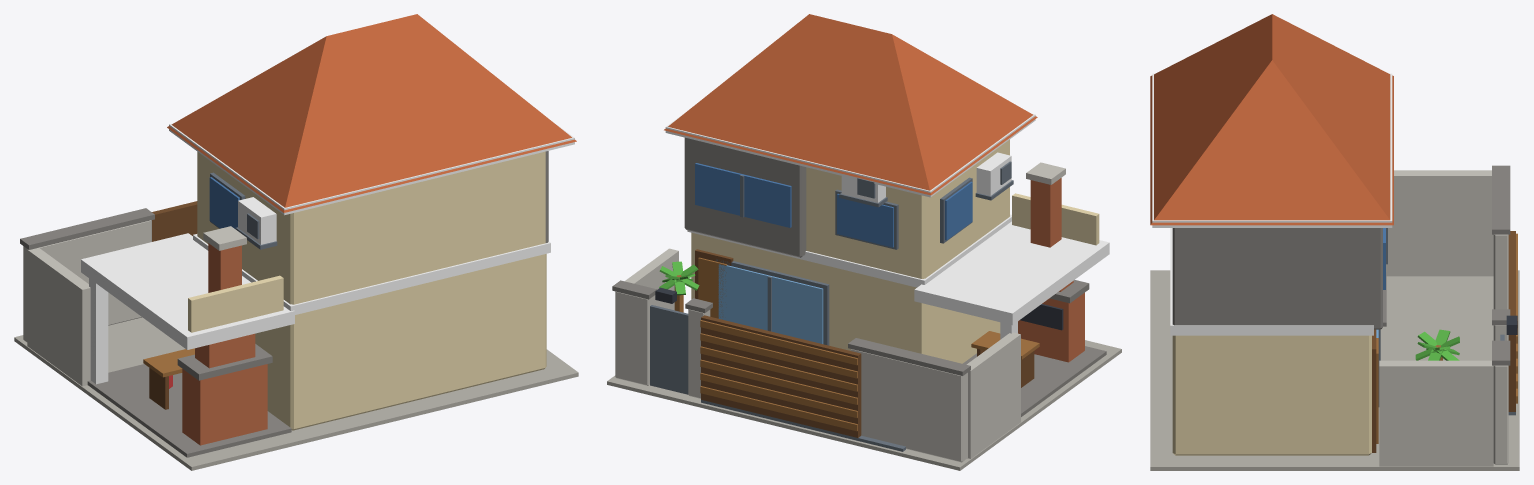
File: casa_dois_andares.glb
The picture shows the model from 3 angles, left to right: view 1: azimuth 30°, elevation 25°; view 2: azimuth 150°, elevation 25°; view 3: azimuth 270°, elevation 25°; orthographic projection. The views are drawn at different scales.
Visible parts, largest first — view 1: corpo; view 2: corpo; view 3: corpo.
Boxes of the visible parts, <box> form: corpo: <box>14,14,578,470</box>; corpo: <box>607,14,1121,470</box>; corpo: <box>1150,14,1519,470</box>.
Size of the model in its own units: 1.26 by 1.07 by 1.
